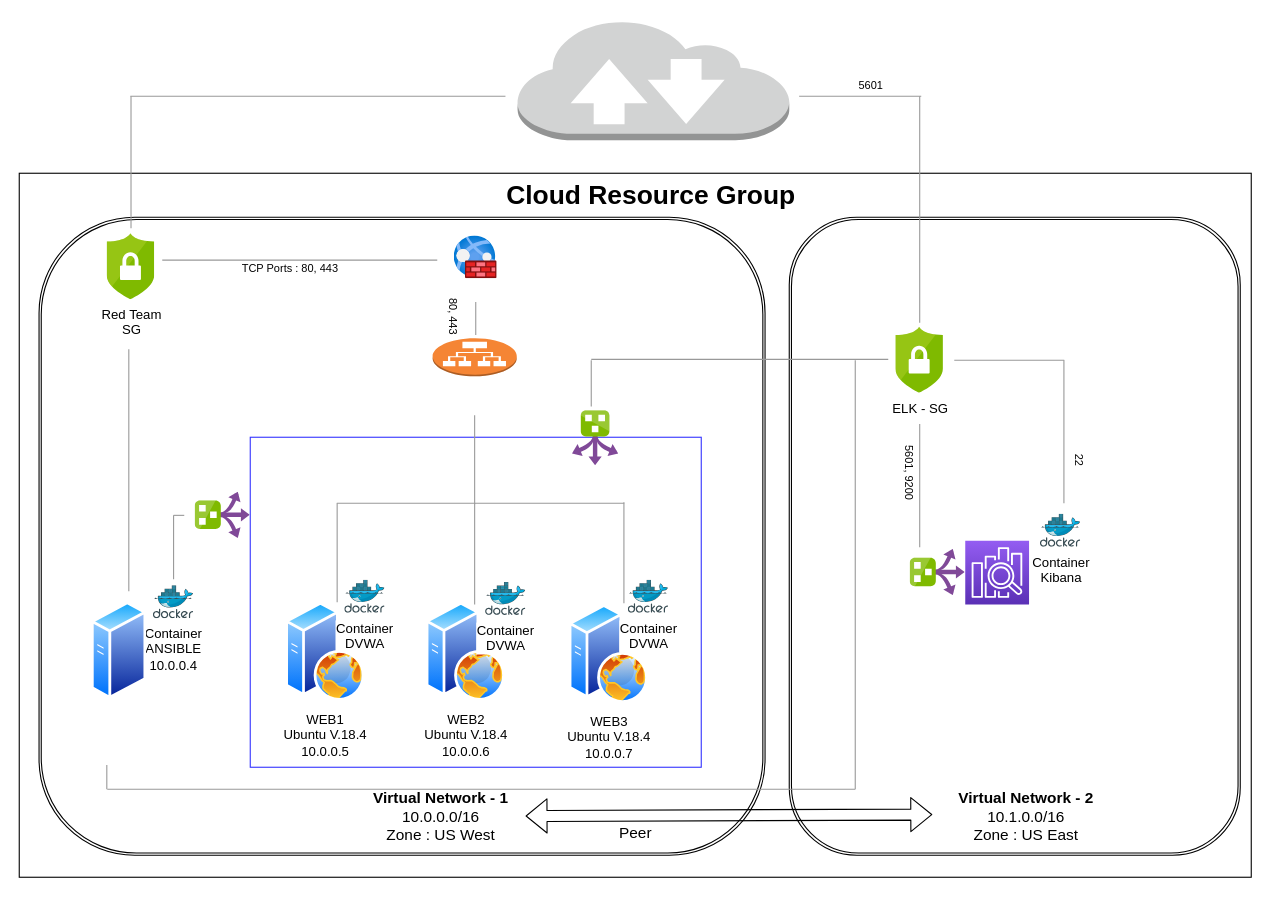
Some shapes in this 1271 by 897 pixel diagram are drawn without their labels. Each missing label, with the centre of its shape:
"ELK Sever Kali V.20.0 4.214.62.91" goes at point (996, 572).
"Jump Box Ubuntu 18.4 52.188.105.54" goes at point (118, 650).
"Load Balancer 168.62.189.160" goes at point (474, 356).
"TCP Ports : 22, 80, 443, 5601" goes at point (317, 95).
"WAF" goes at point (475, 256).
